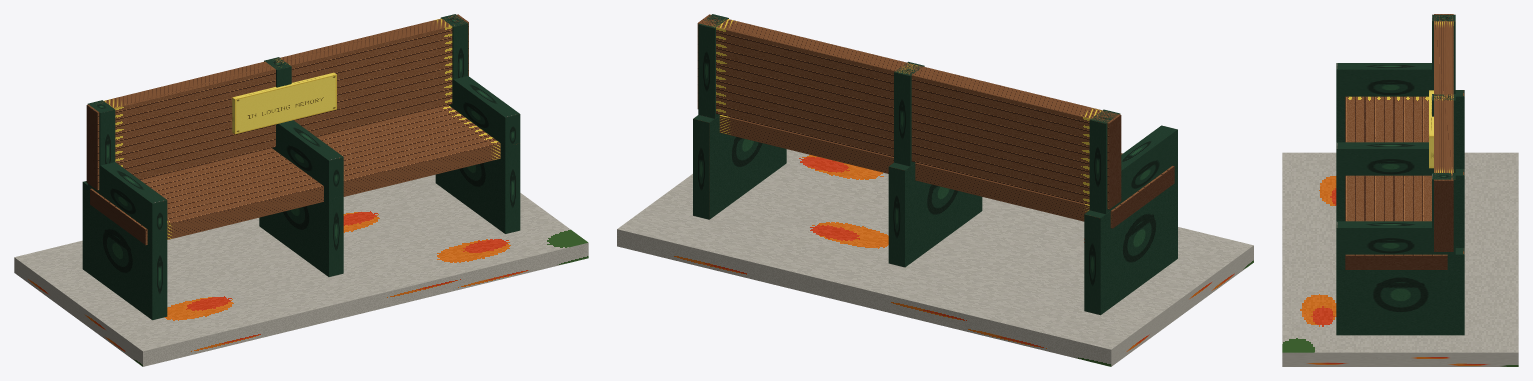
The model's file is prop_street_bench.glb.
3 views of the same model, side by side, from view 1: azimuth 30°, elevation 25°; view 2: azimuth 150°, elevation 25°; view 3: azimuth 270°, elevation 25° (orthographic). The views are drawn at different scales.
Visible parts, largest first — view 1: Prop_Street_Bench; view 2: Prop_Street_Bench; view 3: Prop_Street_Bench.
Boxes of the visible parts, left/top/right/bottom form: Prop_Street_Bench: left=14, top=14, right=588, bottom=366; Prop_Street_Bench: left=617, top=14, right=1253, bottom=366; Prop_Street_Bench: left=1282, top=14, right=1518, bottom=366.
Bounding box in the file's own units: 2.4 × 0.95 × 1.2.
1 material, 1 textured.
